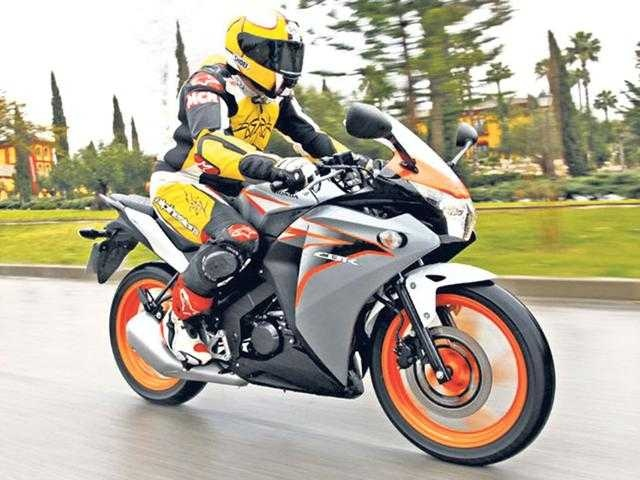motorbike: (77, 102, 555, 468)
